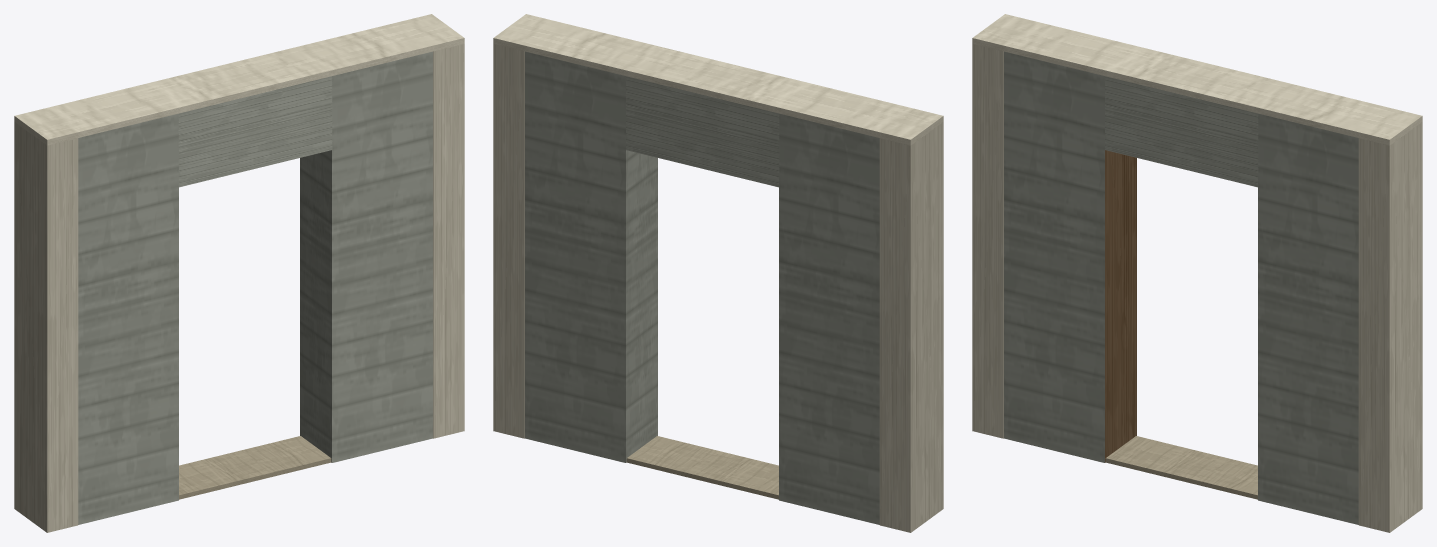
Rendered from house_wall_doorway.glb.
The picture shows the model from 3 angles, left to right: view 1: azimuth 30°, elevation 25°; view 2: azimuth 150°, elevation 25°; view 3: azimuth 330°, elevation 25°; orthographic projection.
Visible parts, largest first — view 1: outdoor_house_wall_doorway; view 2: outdoor_house_wall_doorway; view 3: outdoor_house_wall_doorway.
Part boxes in pixels (bbox=[...]): outdoor_house_wall_doorway: bbox=[14, 14, 464, 532]; outdoor_house_wall_doorway: bbox=[493, 14, 943, 532]; outdoor_house_wall_doorway: bbox=[972, 14, 1422, 532].
Bounding box in the file's own units: 3 × 2.7 × 0.408.
Materials: 1 (1 with a texture image).
